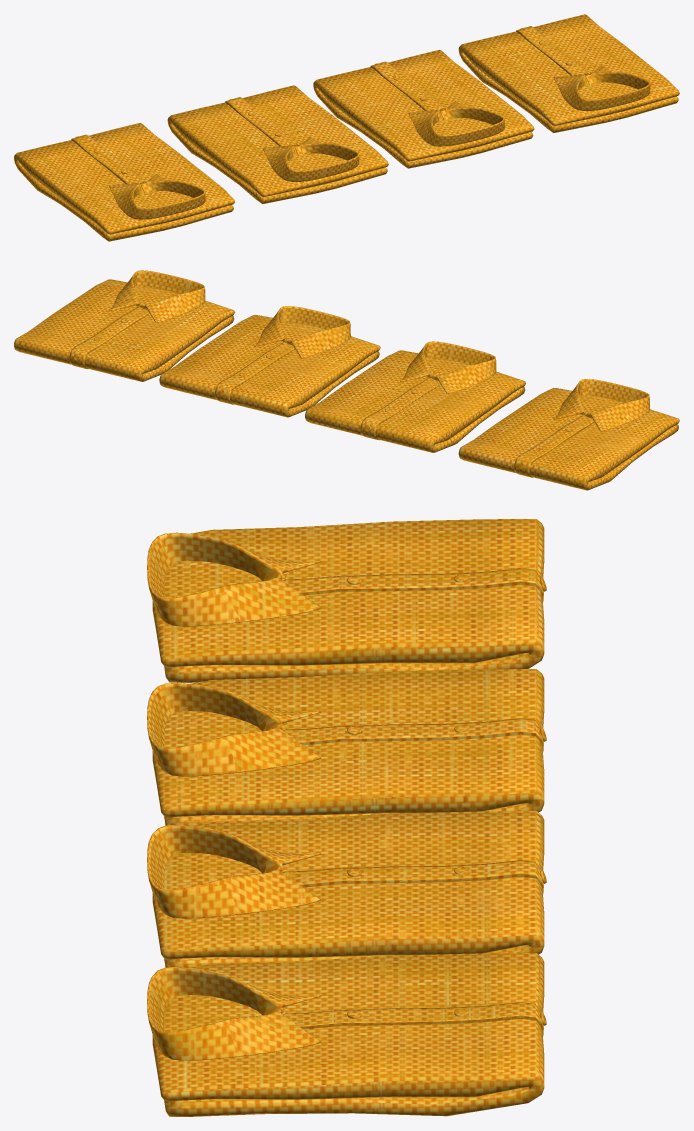
The model's file is chenshan25.fbx.
3 renders of one model, top to bottom at view 1: azimuth 30°, elevation 25°; view 2: azimuth 150°, elevation 25°; view 3: azimuth 270°, elevation 25°, orthographic. The views are drawn at different scales.
Parts seen in each view (by area): view 1: chenshan25; view 2: chenshan25; view 3: chenshan25.
Boxes of the visible parts, x1,y1,x2,y2 form: chenshan25: [14, 14, 679, 241]; chenshan25: [14, 270, 679, 490]; chenshan25: [147, 519, 546, 1116].
Size of the model in its own units: 110 by 5.51 by 33.24.
